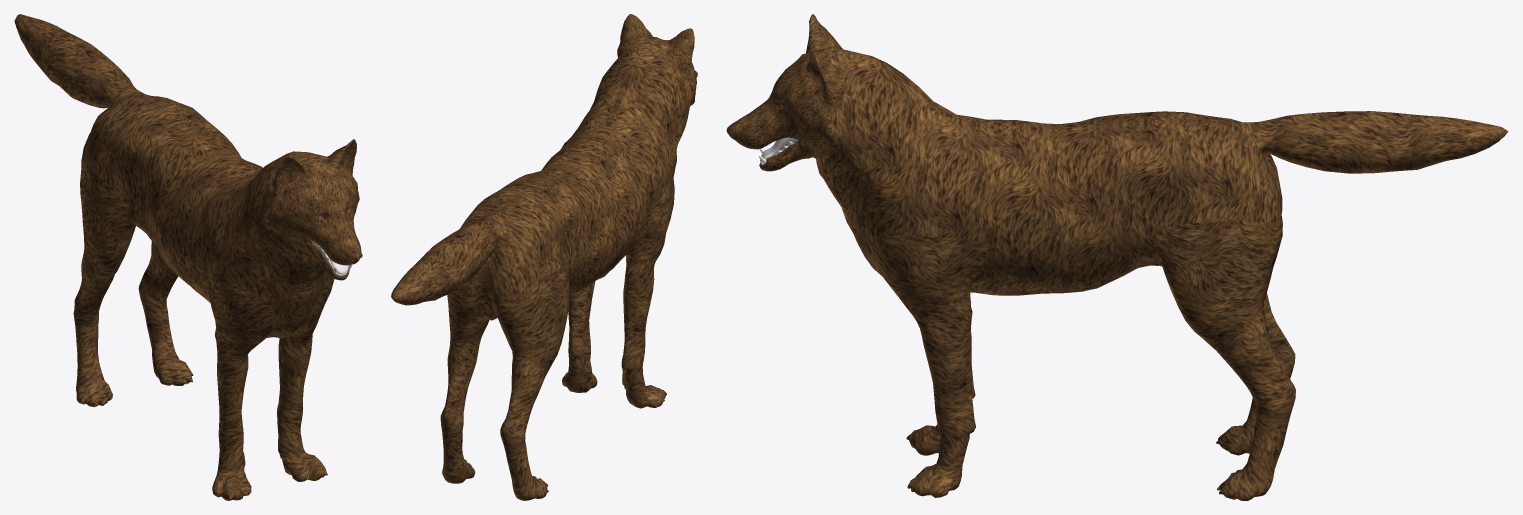
Rendered from test_wolf.glb.
3 views of the same model, side by side, from view 1: azimuth 30°, elevation 25°; view 2: azimuth 150°, elevation 25°; view 3: azimuth 270°, elevation 25° (orthographic). The views are drawn at different scales.
Visible parts, largest first — view 1: wolf_body; view 2: wolf_body; view 3: wolf_body.
Boxes of the visible parts, <box> form: wolf_body: <box>14,14,362,500</box>; wolf_body: <box>391,14,697,500</box>; wolf_body: <box>726,14,1508,500</box>.
Size of the model in its own units: 17.67 by 56.36 by 90.67.
1 material, 1 textured.
